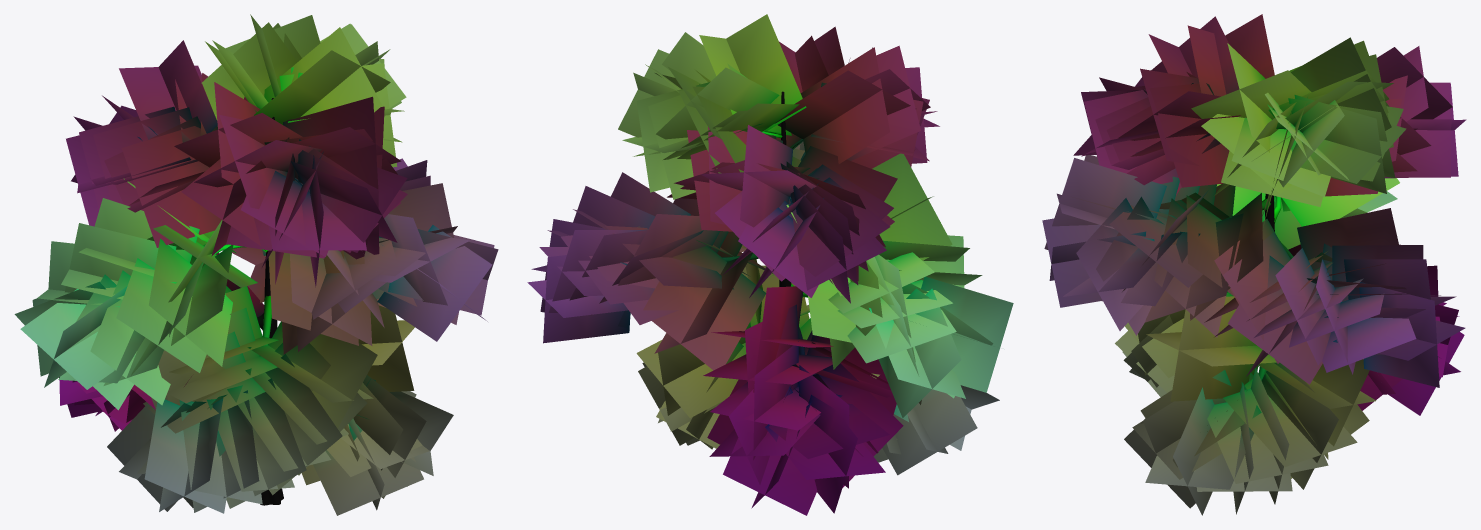
The model's file is URP_P14_Tree_1_LOD_0.fbx.
3 views of the same model, side by side, from view 1: azimuth 30°, elevation 25°; view 2: azimuth 150°, elevation 25°; view 3: azimuth 270°, elevation 25° (orthographic).
Parts seen in each view (by area): view 1: Tree_1_LOD_0; view 2: Tree_1_LOD_0; view 3: Tree_1_LOD_0.
Boxes of the visible parts, bbox=[...] form: Tree_1_LOD_0: bbox=[14, 14, 498, 515]; Tree_1_LOD_0: bbox=[527, 14, 1013, 515]; Tree_1_LOD_0: bbox=[1042, 14, 1466, 515].
Size of the model in its own units: 448 by 455 by 385.
